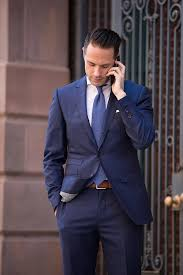F_M_suit jacket: (42, 75, 162, 234)
F_belt: (72, 177, 136, 196)
F_dress pants: (51, 189, 147, 275)
